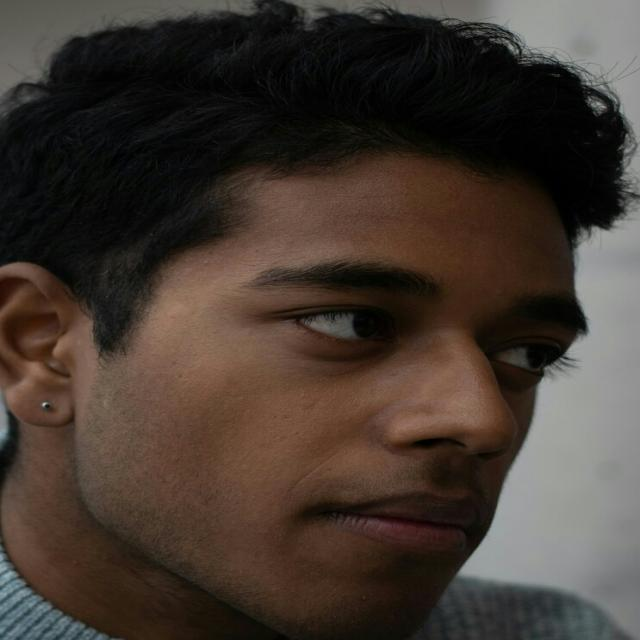front: (265, 252, 543, 582)
